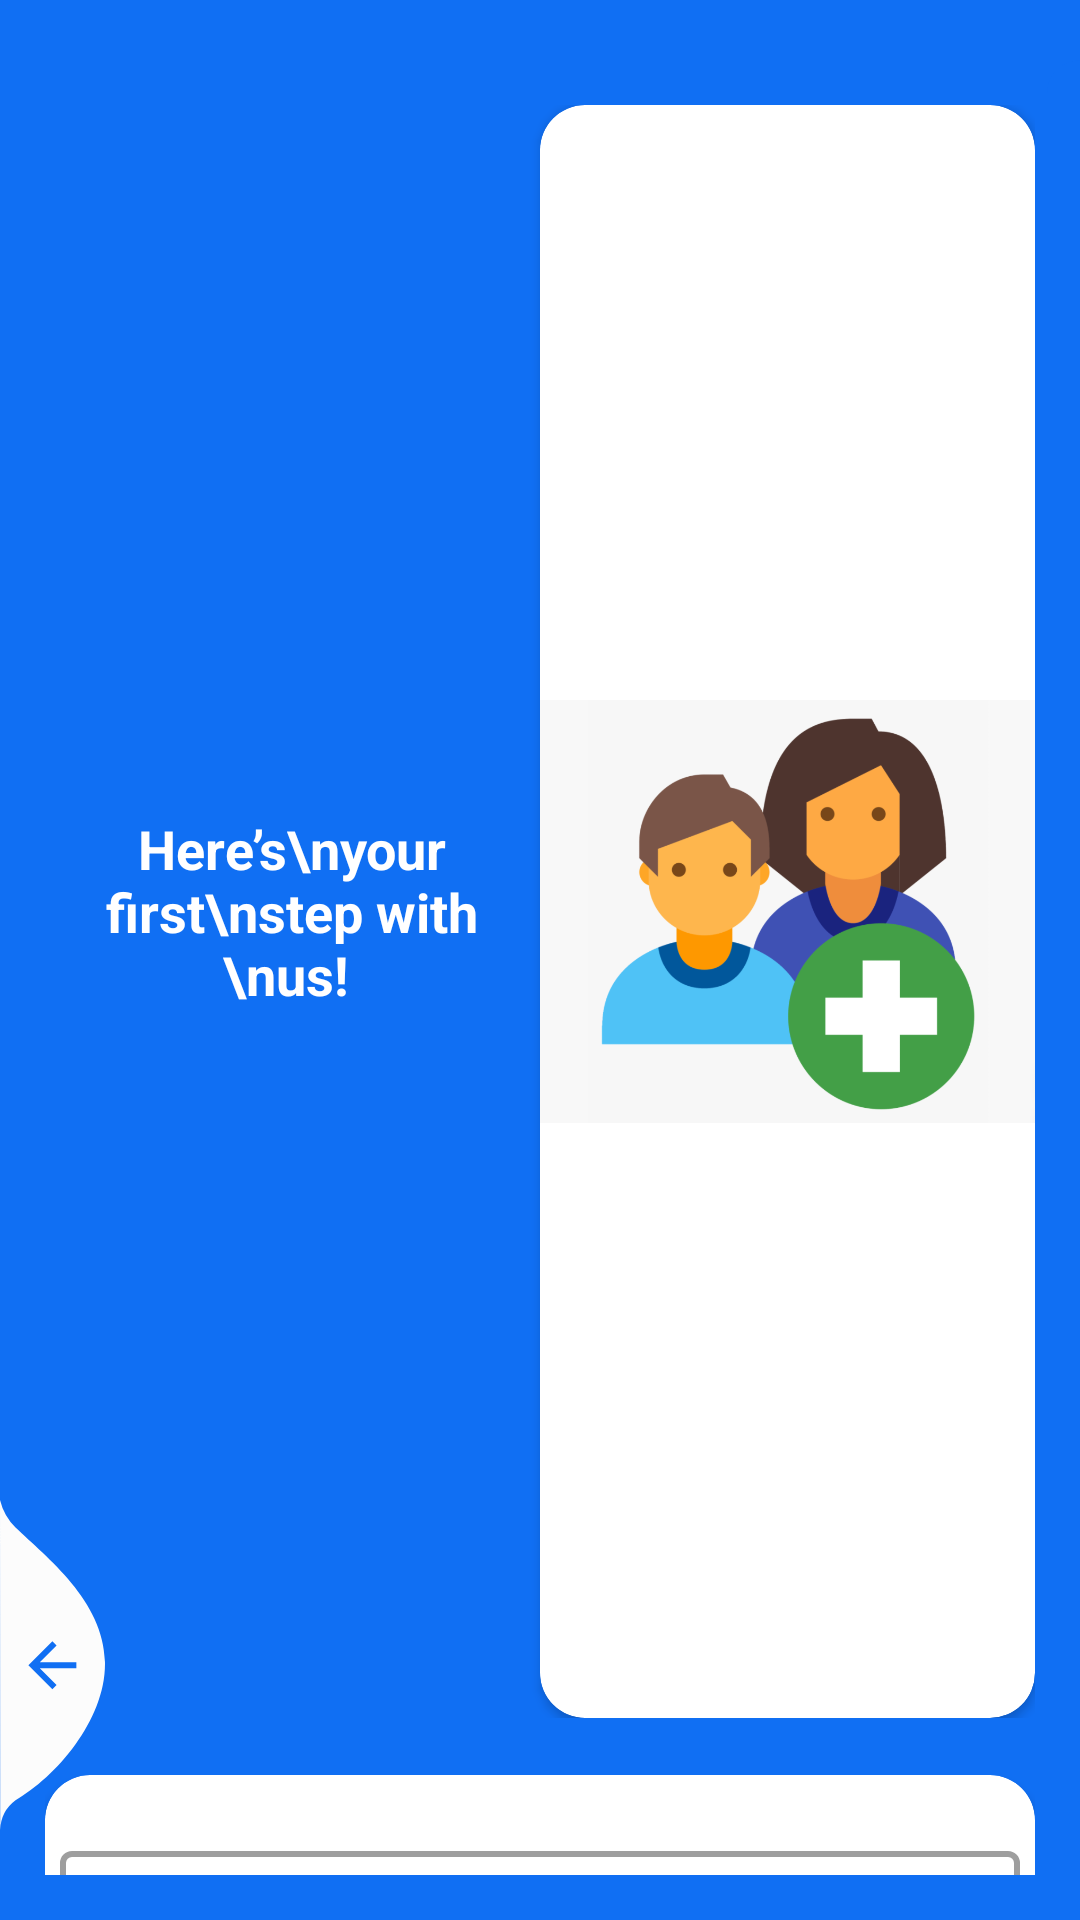

Named icons in this screenshot (1080×1920) and their centers, (x,y):
back: (52,1664)
